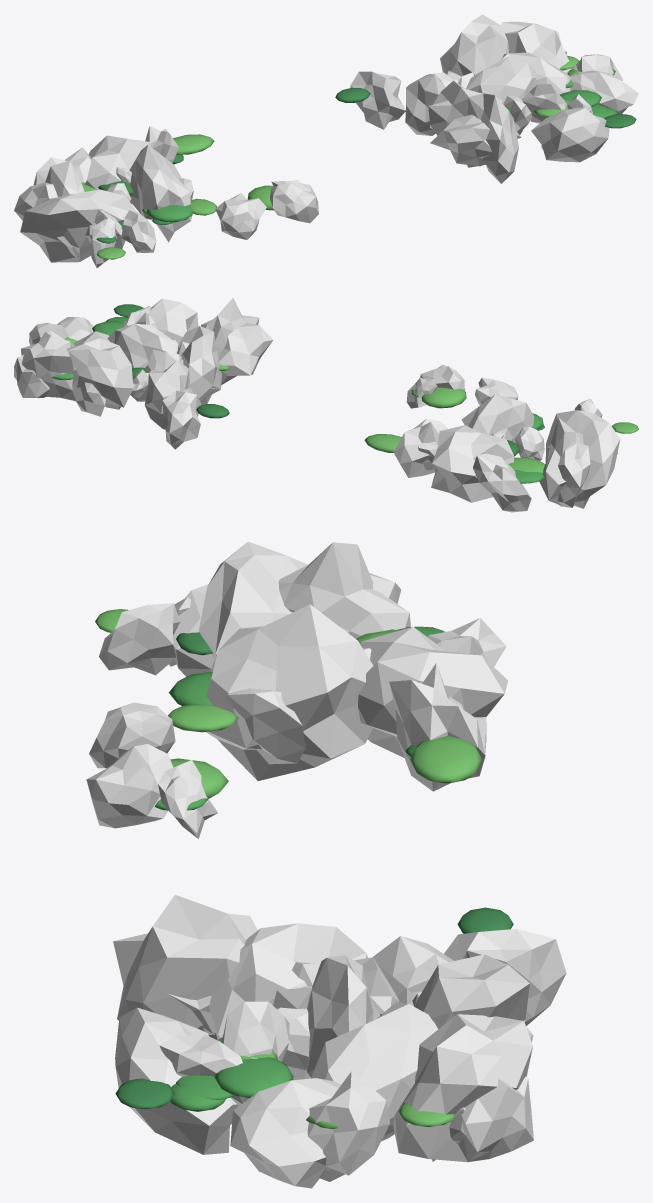
File: 09_Frente.fbx
3 views of the same model, one above another, from view 1: azimuth 30°, elevation 25°; view 2: azimuth 150°, elevation 25°; view 3: azimuth 270°, elevation 25° (orthographic). The views are drawn at different scales.
Visible parts, largest first — view 1: Fr_Rocha_27, Fr_Rocha_37, Fr_Rocha_40, Fr_Rocha_12, Fr_Rocha_8, Fr_Rocha_14, Fr_Rocha_36, Fr_Rocha_30, Fr_Rocha_49, Fr_Rocha_26, Fr_Rocha_0, Fr_Rocha_6 (+21 smaller); view 2: Fr_Rocha_49, Fr_Rocha_12, Fr_Rocha_27, Fr_Rocha_26, Fr_Rocha_28, Fr_Rocha_37, Fr_Rocha_1, Fr_Rocha_36, Fr_Rocha_30, Fr_Rocha_14, Fr_Rocha_47, Fr_Rocha_0 (+19 smaller); view 3: Fr_Rocha_37, Fr_Rocha_8, Fr_Rocha_26, Fr_Rocha_49, Fr_Rocha_6, Fr_Rocha_40, Fr_Rocha_38, Fr_Rocha_28, Fr_Rocha_19, Fr_Rocha_27, Fr_Rocha_12, Fr_Rocha_52 (+22 smaller).
Part boxes in pixels (bbox=[...]): Fr_Rocha_27: bbox=[20, 189, 136, 262]; Fr_Rocha_37: bbox=[129, 145, 191, 242]; Fr_Rocha_40: bbox=[531, 107, 609, 162]; Fr_Rocha_12: bbox=[440, 14, 509, 76]; Fr_Rocha_8: bbox=[466, 93, 518, 183]; Fr_Rocha_14: bbox=[350, 71, 405, 129]; Fr_Rocha_36: bbox=[430, 114, 491, 166]; Fr_Rocha_30: bbox=[466, 56, 536, 103]; Fr_Rocha_49: bbox=[85, 135, 150, 203]; Fr_Rocha_26: bbox=[501, 21, 571, 72]; Fr_Rocha_0: bbox=[405, 72, 458, 135]; Fr_Rocha_6: bbox=[570, 70, 638, 113]; Fr_Rocha_49: bbox=[431, 425, 514, 502]; Fr_Rocha_12: bbox=[67, 338, 133, 409]; Fr_Rocha_27: bbox=[545, 410, 620, 508]; Fr_Rocha_26: bbox=[21, 332, 75, 401]; Fr_Rocha_28: bbox=[178, 326, 221, 397]; Fr_Rocha_37: bbox=[461, 394, 534, 442]; Fr_Rocha_1: bbox=[473, 453, 531, 512]; Fr_Rocha_36: bbox=[218, 322, 272, 384]; Fr_Rocha_30: bbox=[107, 323, 176, 401]; Fr_Rocha_14: bbox=[162, 390, 200, 449]; Fr_Rocha_47: bbox=[393, 418, 447, 477]; Fr_Rocha_0: bbox=[144, 360, 193, 429]; Fr_Rocha_37: bbox=[206, 604, 373, 780]; Fr_Rocha_8: bbox=[113, 895, 257, 1039]; Fr_Rocha_26: bbox=[393, 1014, 532, 1162]; Fr_Rocha_49: bbox=[358, 626, 507, 757]; Fr_Rocha_6: bbox=[230, 1078, 340, 1188]; Fr_Rocha_40: bbox=[115, 1007, 237, 1154]; Fr_Rocha_38: bbox=[311, 1002, 437, 1141]; Fr_Rocha_28: bbox=[209, 923, 368, 1039]; Fr_Rocha_19: bbox=[278, 542, 410, 638]; Fr_Rocha_27: bbox=[198, 541, 307, 660]; Fr_Rocha_12: bbox=[415, 954, 529, 1029]; Fr_Rocha_52: bbox=[307, 1071, 389, 1181].
Size of the model in its own units: 25909 by 4054 by 9363.
